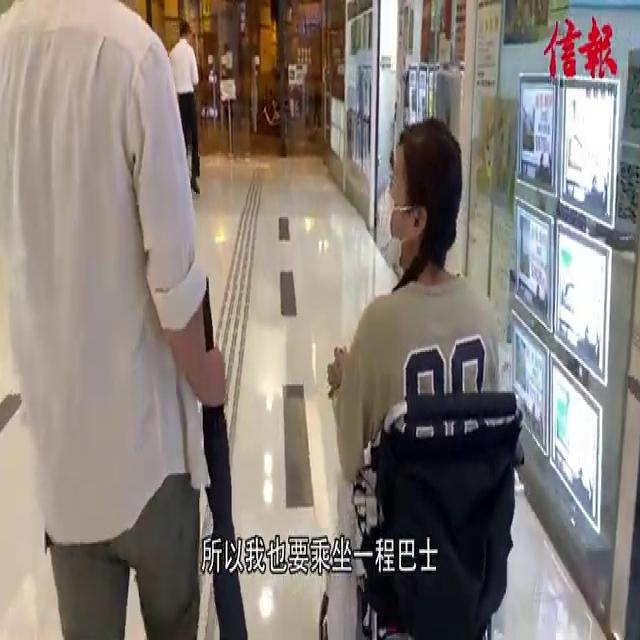wheelchairs: (312, 374, 530, 640)
